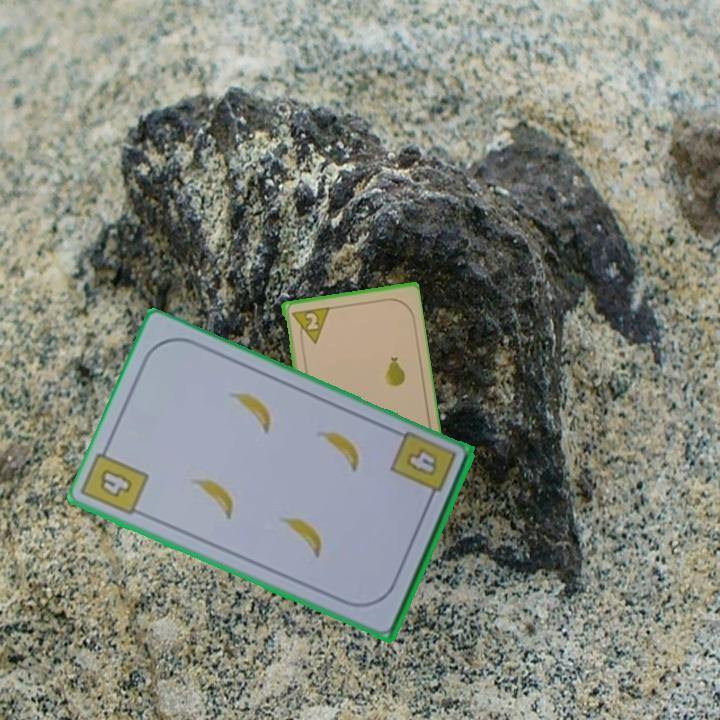2p: (287, 303, 331, 348)
4b: (387, 427, 459, 507), (95, 465, 135, 501)
